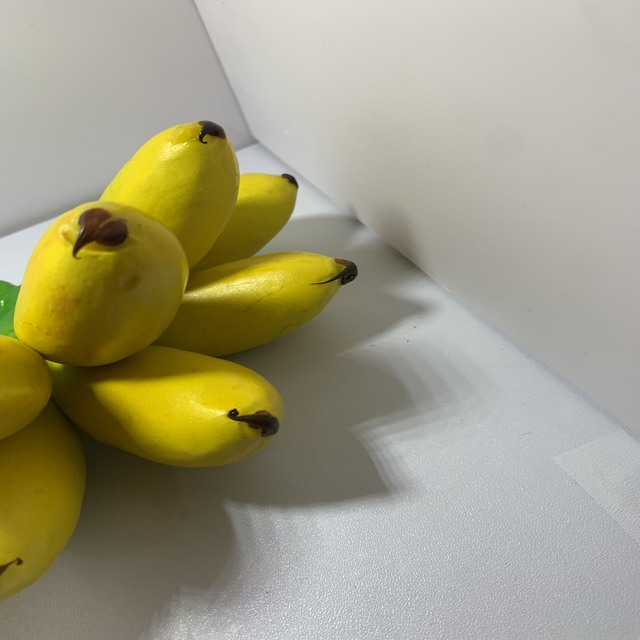Chuoi: (0, 109, 356, 601)
